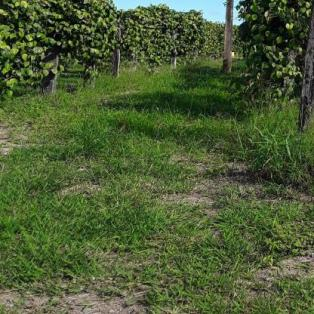Poste: (218, 0, 246, 74)
